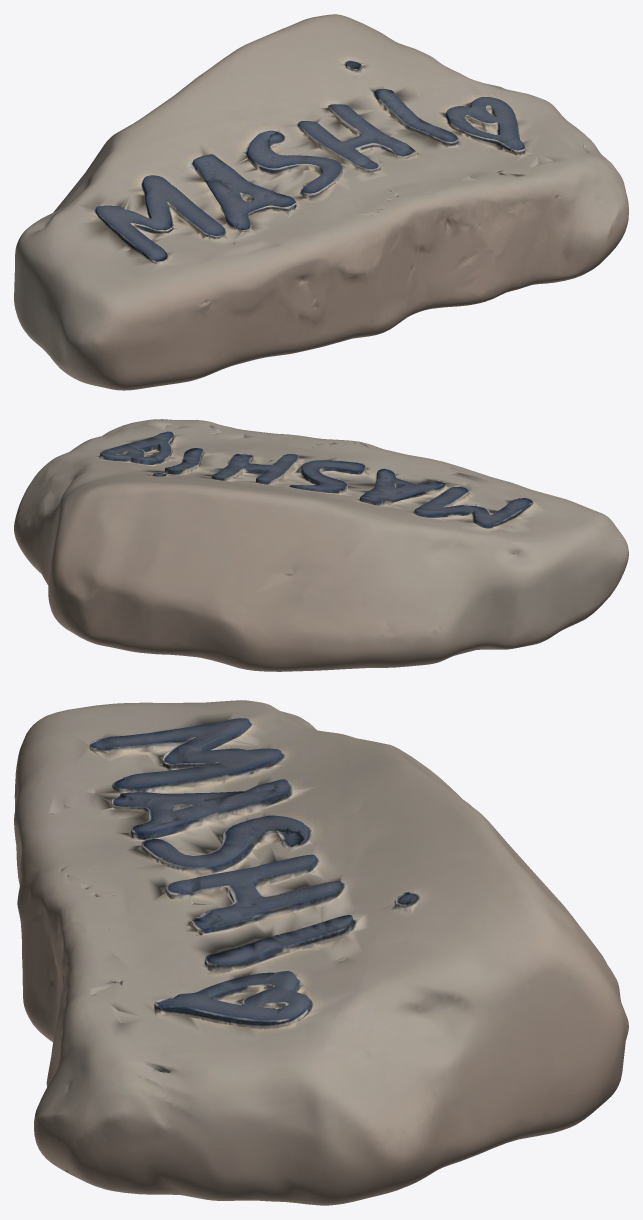
Rendered from sasso-mashi-3d-model.glb.
The picture shows the model from 3 angles, top to bottom: view 1: azimuth 30°, elevation 25°; view 2: azimuth 150°, elevation 25°; view 3: azimuth 270°, elevation 25°; orthographic projection. The views are drawn at different scales.
Visible parts, largest first — view 1: tripo_node_86e38804-9fa2-407e-a681-368818efae47; view 2: tripo_node_86e38804-9fa2-407e-a681-368818efae47; view 3: tripo_node_86e38804-9fa2-407e-a681-368818efae47.
Part boxes in pixels (x1,y1,x2,y2): tripo_node_86e38804-9fa2-407e-a681-368818efae47: [14, 14, 628, 390]; tripo_node_86e38804-9fa2-407e-a681-368818efae47: [14, 419, 628, 671]; tripo_node_86e38804-9fa2-407e-a681-368818efae47: [14, 700, 628, 1205].
Bounding box in the file's own units: 0.9794 × 0.2723 × 0.646.
Materials: 1 (1 with a texture image).
